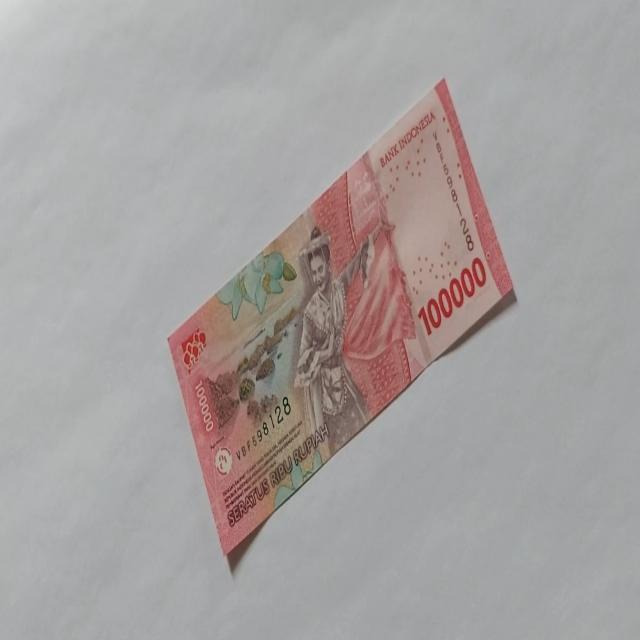seratus ribu rupiah: (166, 76, 516, 556), (292, 223, 376, 455)
